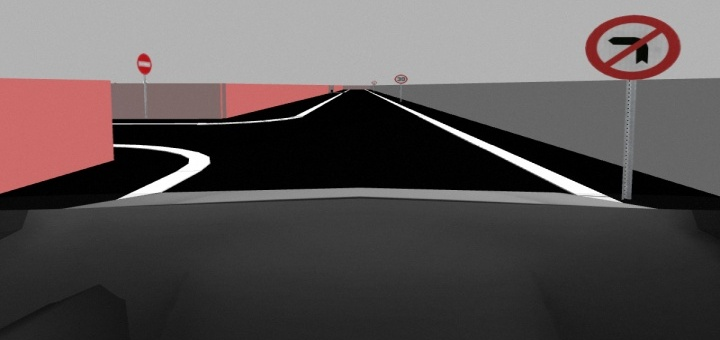sola_donulmez: (585, 15, 681, 81)
